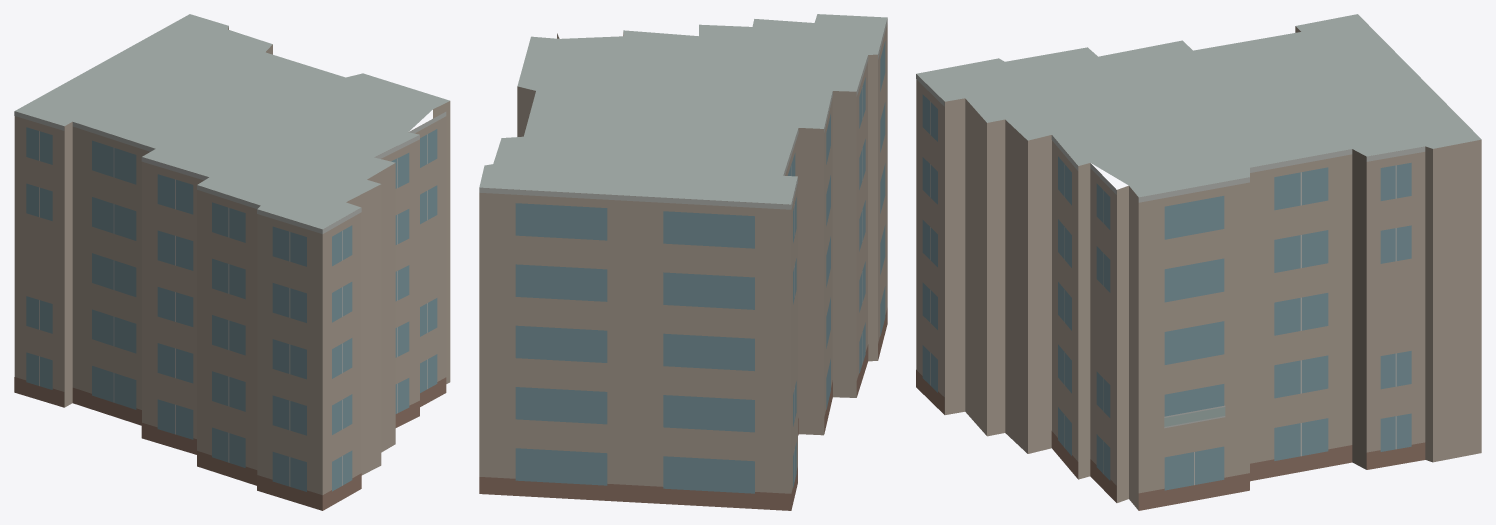
Rendered from survey-upis-32974064.glb.
3 views of the same model, side by side, from view 1: azimuth 30°, elevation 25°; view 2: azimuth 150°, elevation 25°; view 3: azimuth 270°, elevation 25° (orthographic). The views are drawn at different scales.
Visible parts, largest first — view 1: survey-upis-32974064.tmp; view 2: survey-upis-32974064.tmp; view 3: survey-upis-32974064.tmp.
Boxes of the visible parts, x1,y1,x2,y2 form: survey-upis-32974064.tmp: (14,14,450,510); survey-upis-32974064.tmp: (479,14,887,510); survey-upis-32974064.tmp: (916,14,1481,510).
Bounding box in the file's own units: 18.08 × 14.4 × 23.56.
